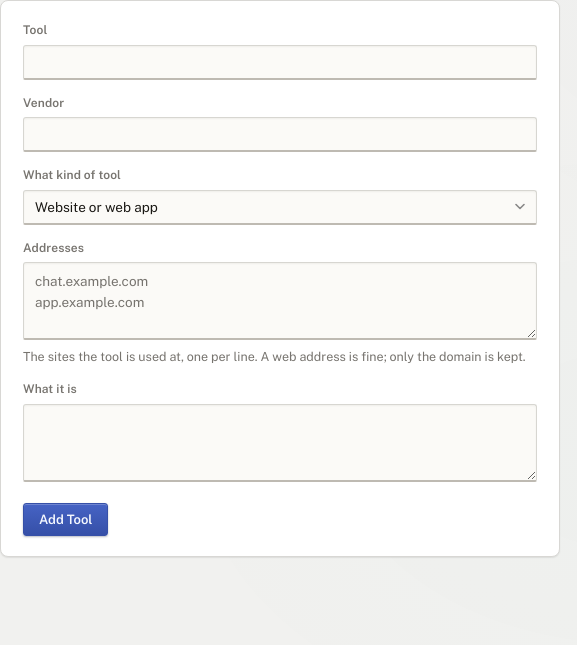
Test: AIToolForm › needs a name and at least one address
Type " , ,  " into the text box labelled "Addresses". click: (280, 301)
box: [23,262,537,340]
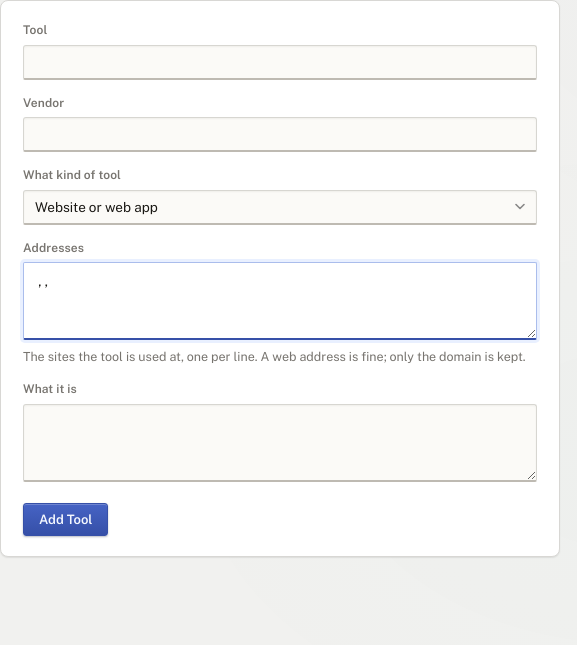
Click the button "Add Tool". click: (66, 519)
box: [23,503,108,536]
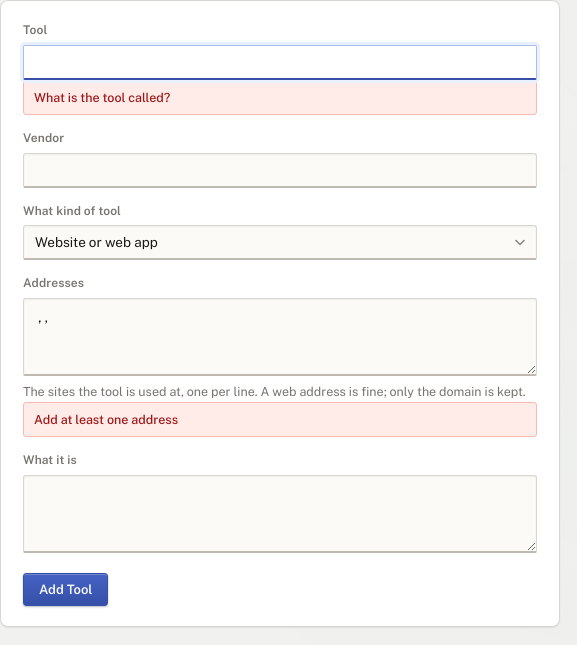
Now the text "What is the tool called?" is shown, box [23,80,537,115]
Now the text "Add at least one address" is shown, box [23,402,537,437]
